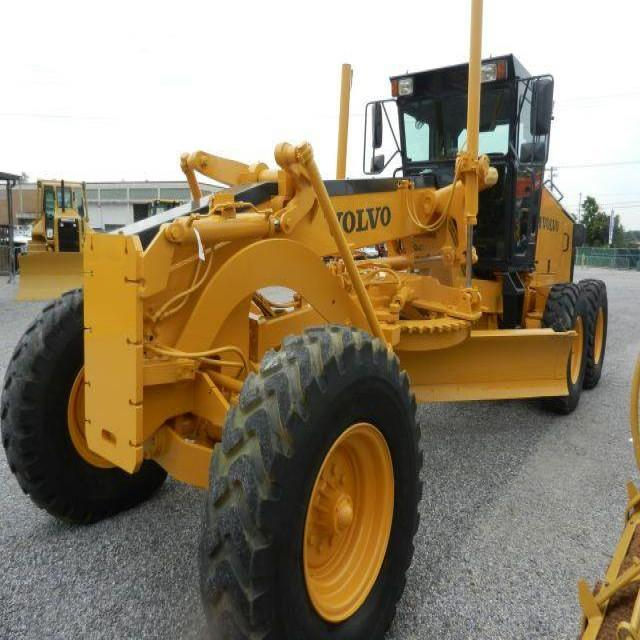Grader: (21, 28, 615, 639)
